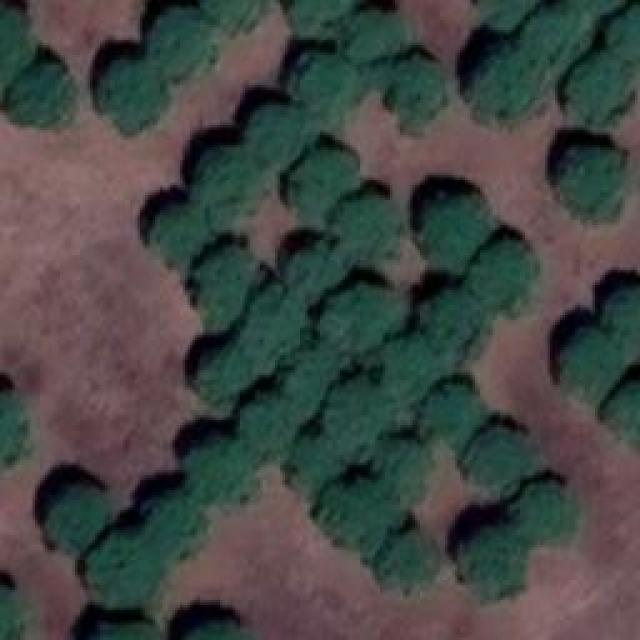Tree: (310, 478, 398, 553), (318, 285, 408, 355), (468, 40, 551, 115), (85, 530, 163, 608), (188, 248, 258, 331), (420, 190, 495, 265), (188, 150, 263, 225), (97, 53, 165, 133), (372, 58, 440, 133), (145, 8, 215, 78), (240, 290, 300, 370), (418, 292, 488, 360), (285, 150, 353, 220), (550, 332, 618, 400), (330, 192, 398, 260), (558, 148, 621, 221), (288, 54, 363, 115), (10, 65, 75, 133), (180, 440, 250, 503), (463, 523, 526, 593), (413, 383, 483, 446), (333, 380, 388, 458), (513, 480, 578, 545), (570, 53, 630, 123), (45, 485, 108, 550), (475, 245, 540, 308), (147, 485, 205, 555), (525, 0, 590, 60), (237, 390, 295, 455), (242, 105, 300, 170), (343, 8, 408, 63), (192, 345, 250, 405), (285, 430, 340, 493), (380, 530, 433, 595), (380, 435, 430, 503), (472, 430, 530, 488), (373, 343, 436, 396), (155, 200, 210, 260), (293, 338, 338, 411), (282, 243, 340, 298), (288, 0, 353, 38), (0, 0, 28, 85), (597, 292, 640, 345), (605, 0, 640, 65), (0, 393, 28, 473), (610, 375, 640, 443), (210, 0, 265, 32), (83, 620, 166, 640), (183, 620, 253, 640), (0, 580, 20, 640)
